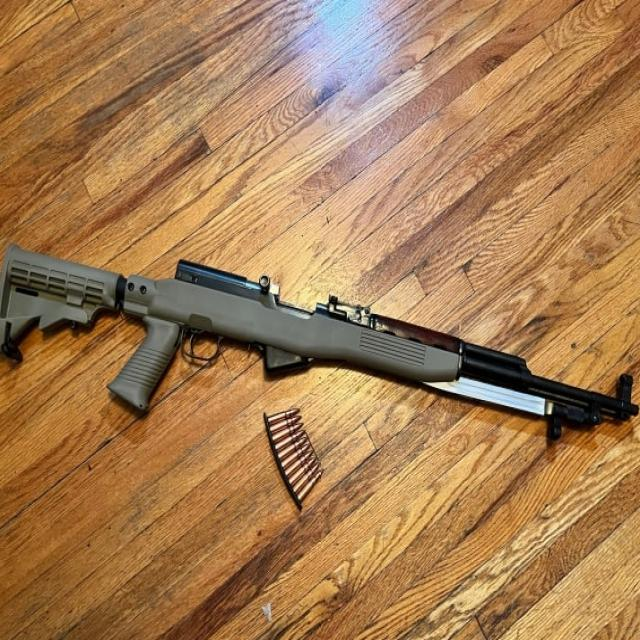Weapon: (0, 245, 637, 437)
